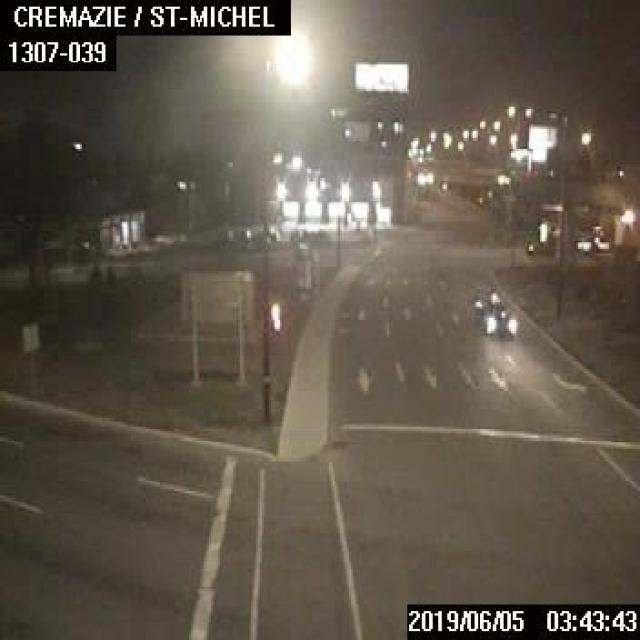vehicle: (471, 289, 518, 333), (522, 231, 553, 253)
